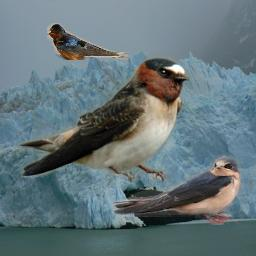Swallow: (16, 52, 196, 185), (111, 154, 242, 225), (47, 23, 129, 60)
